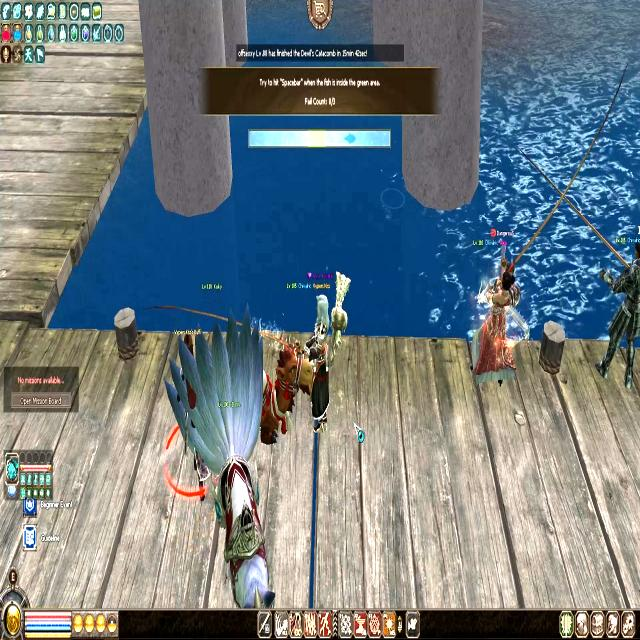fishes: (343, 132, 356, 145)
